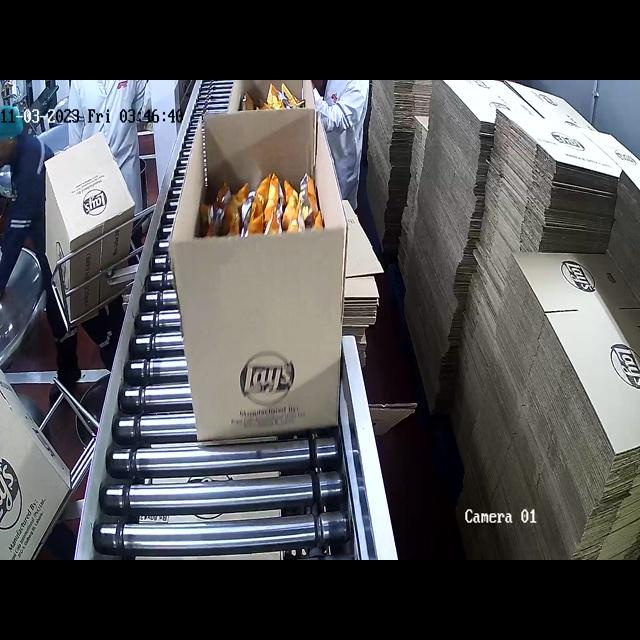cheese: (200, 152, 335, 235), (236, 83, 314, 111)
